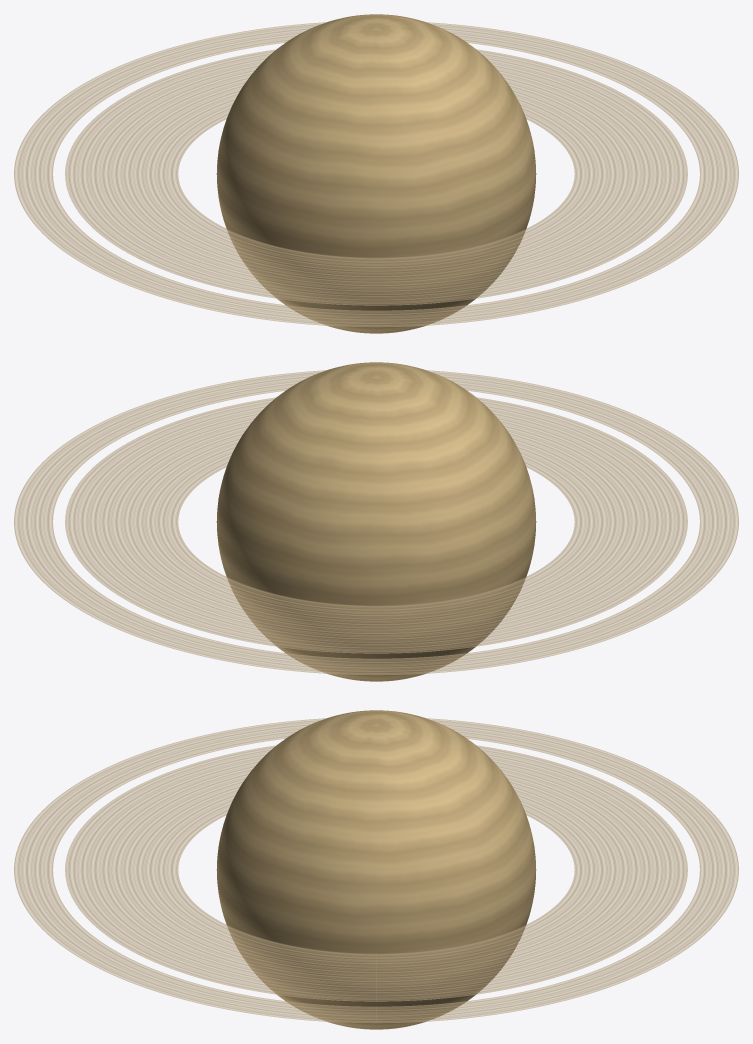
File: saturn.glb
3 views of the same model, one above another, from view 1: azimuth 30°, elevation 25°; view 2: azimuth 150°, elevation 25°; view 3: azimuth 270°, elevation 25° (orthographic).
Visible parts, largest first — view 1: saturn | body, Saturn | ring 1.525, Saturn | ring 2.025, Saturn | ring 1.240; view 2: saturn | body, Saturn | ring 1.525, Saturn | ring 2.025, Saturn | ring 1.240; view 3: saturn | body, Saturn | ring 1.525, Saturn | ring 2.025, Saturn | ring 1.240.
Boxes of the visible parts, x1,y1,x2,y2 form: saturn | body: [216, 14, 536, 333]; Saturn | ring 1.525: [65, 49, 687, 305]; Saturn | ring 2.025: [14, 22, 738, 327]; Saturn | ring 1.240: [133, 88, 619, 276]; saturn | body: [216, 362, 536, 681]; Saturn | ring 1.525: [65, 397, 687, 653]; Saturn | ring 2.025: [14, 370, 738, 675]; Saturn | ring 1.240: [133, 436, 619, 624]; saturn | body: [216, 710, 536, 1029]; Saturn | ring 1.525: [65, 745, 687, 1001]; Saturn | ring 2.025: [14, 718, 738, 1023]; Saturn | ring 1.240: [133, 784, 619, 972].
Bounding box in the file's own units: 4.54 × 2 × 4.54.
Materials: 2 (2 with a texture image).
